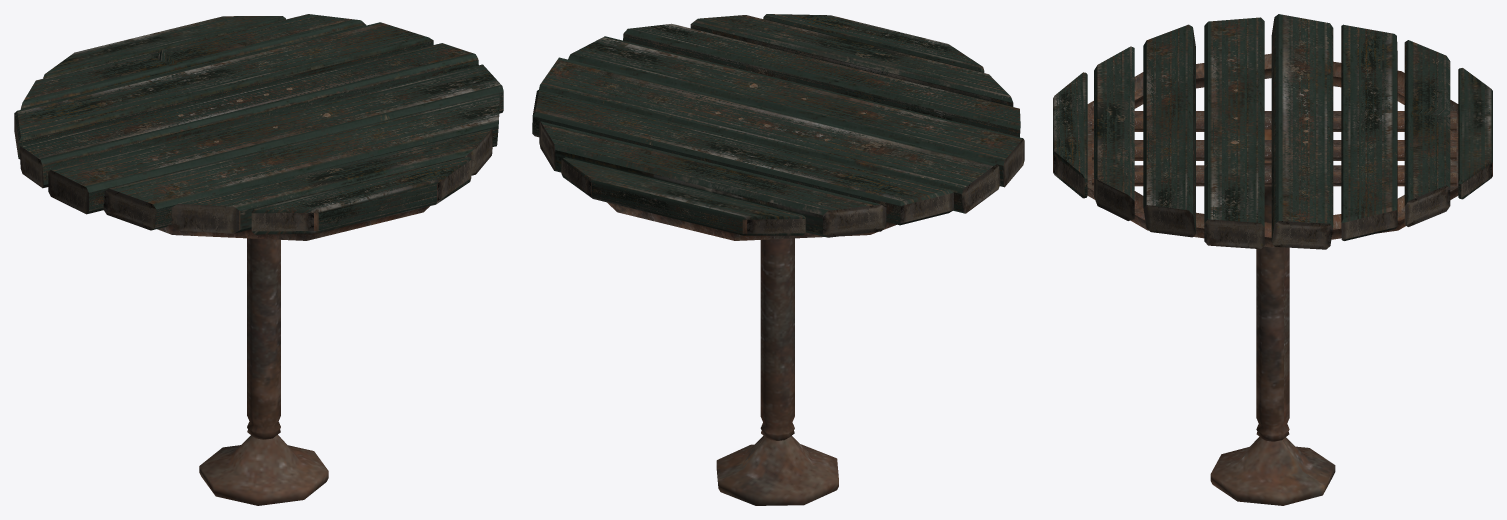
Rendered from table.fbx.
3 views of the same model, side by side, from view 1: azimuth 30°, elevation 25°; view 2: azimuth 150°, elevation 25°; view 3: azimuth 270°, elevation 25° (orthographic). The views are drawn at different scales.
Visible parts, largest first — view 1: SM_Table; view 2: SM_Table; view 3: SM_Table.
Boxes of the visible parts, x1,y1,x2,y2 form: SM_Table: (14, 14, 503, 505); SM_Table: (532, 14, 1024, 505); SM_Table: (1053, 14, 1492, 505).
Size of the model in its own units: 6.47 by 5.26 by 5.8.
